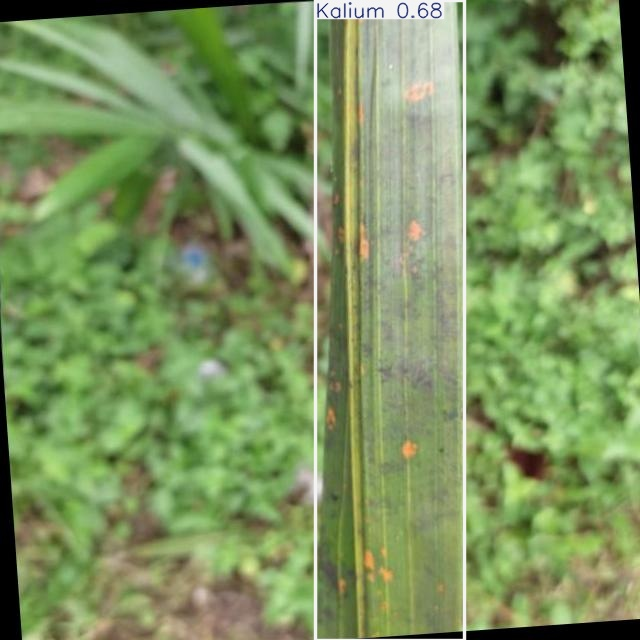Kalium: (315, 0, 465, 640)
